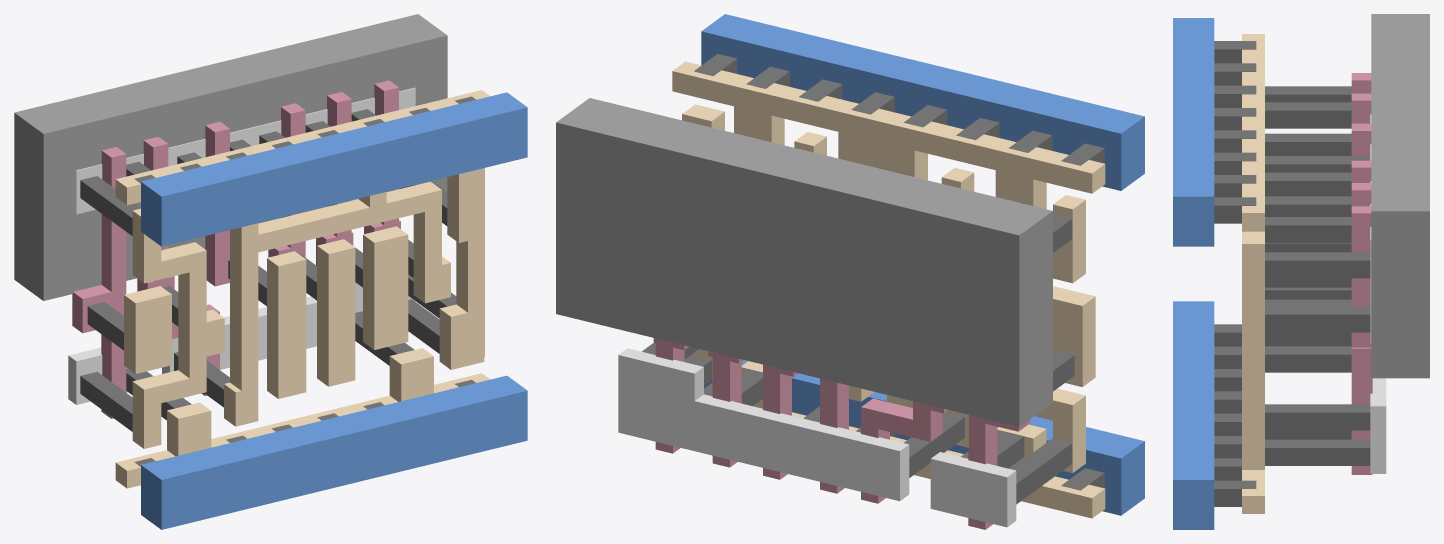
Rendered from sky130_fd_sc_hd__and4b_1.gds.gltf.
The picture shows the model from 3 angles, left to right: view 1: azimuth 30°, elevation 25°; view 2: azimuth 150°, elevation 25°; view 3: azimuth 270°, elevation 25°; orthographic projection. The views are drawn at different scales.
Visible parts, largest first — view 1: sky130_fd_sc_hd__and4b_1_li1, sky130_fd_sc_hd__and4b_1_met1, sky130_fd_sc_hd__and4b_1_nwell, sky130_fd_sc_hd__and4b_1_poly, sky130_fd_sc_hd__and4b_1_licon, sky130_fd_sc_hd__and4b_1_diff, sky130_fd_sc_hd__and4b_1_mcon; view 2: sky130_fd_sc_hd__and4b_1_nwell, sky130_fd_sc_hd__and4b_1_li1, sky130_fd_sc_hd__and4b_1_met1, sky130_fd_sc_hd__and4b_1_diff, sky130_fd_sc_hd__and4b_1_poly, sky130_fd_sc_hd__and4b_1_licon, sky130_fd_sc_hd__and4b_1_mcon; view 3: sky130_fd_sc_hd__and4b_1_licon, sky130_fd_sc_hd__and4b_1_nwell, sky130_fd_sc_hd__and4b_1_met1, sky130_fd_sc_hd__and4b_1_mcon, sky130_fd_sc_hd__and4b_1_li1, sky130_fd_sc_hd__and4b_1_poly, sky130_fd_sc_hd__and4b_1_diff.
Boxes of the visible parts, bbox=[...] form: sky130_fd_sc_hd__and4b_1_li1: bbox=[115, 90, 489, 488]; sky130_fd_sc_hd__and4b_1_met1: bbox=[141, 92, 527, 529]; sky130_fd_sc_hd__and4b_1_nwell: bbox=[14, 14, 447, 300]; sky130_fd_sc_hd__and4b_1_poly: bbox=[72, 80, 400, 418]; sky130_fd_sc_hd__and4b_1_licon: bbox=[80, 109, 456, 431]; sky130_fd_sc_hd__and4b_1_diff: bbox=[68, 87, 415, 404]; sky130_fd_sc_hd__and4b_1_mcon: bbox=[134, 96, 475, 466]; sky130_fd_sc_hd__and4b_1_nwell: bbox=[556, 98, 1052, 426]; sky130_fd_sc_hd__and4b_1_li1: bbox=[672, 61, 1105, 518]; sky130_fd_sc_hd__and4b_1_met1: bbox=[701, 14, 1144, 515]; sky130_fd_sc_hd__and4b_1_diff: bbox=[618, 348, 1016, 527]; sky130_fd_sc_hd__and4b_1_poly: bbox=[653, 338, 1030, 529]; sky130_fd_sc_hd__and4b_1_licon: bbox=[642, 197, 1074, 504]; sky130_fd_sc_hd__and4b_1_mcon: bbox=[694, 54, 1104, 490]; sky130_fd_sc_hd__and4b_1_licon: bbox=[1265, 86, 1370, 465]; sky130_fd_sc_hd__and4b_1_nwell: bbox=[1371, 14, 1429, 378]; sky130_fd_sc_hd__and4b_1_met1: bbox=[1173, 18, 1214, 529]; sky130_fd_sc_hd__and4b_1_mcon: bbox=[1214, 41, 1256, 506]; sky130_fd_sc_hd__and4b_1_li1: bbox=[1242, 34, 1264, 513]; sky130_fd_sc_hd__and4b_1_poly: bbox=[1351, 73, 1372, 474]; sky130_fd_sc_hd__and4b_1_diff: bbox=[1370, 114, 1386, 473].
Bounding box in the file's own units: 4.06 × 3.2 × 2.24.
